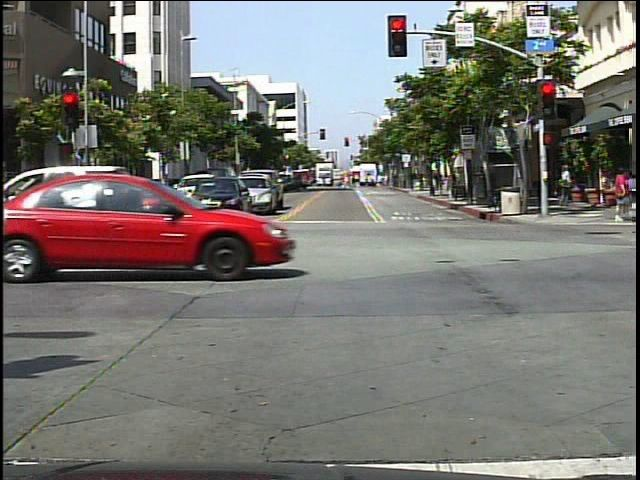person: (63, 171, 94, 235), (609, 166, 636, 228), (555, 162, 578, 213)
